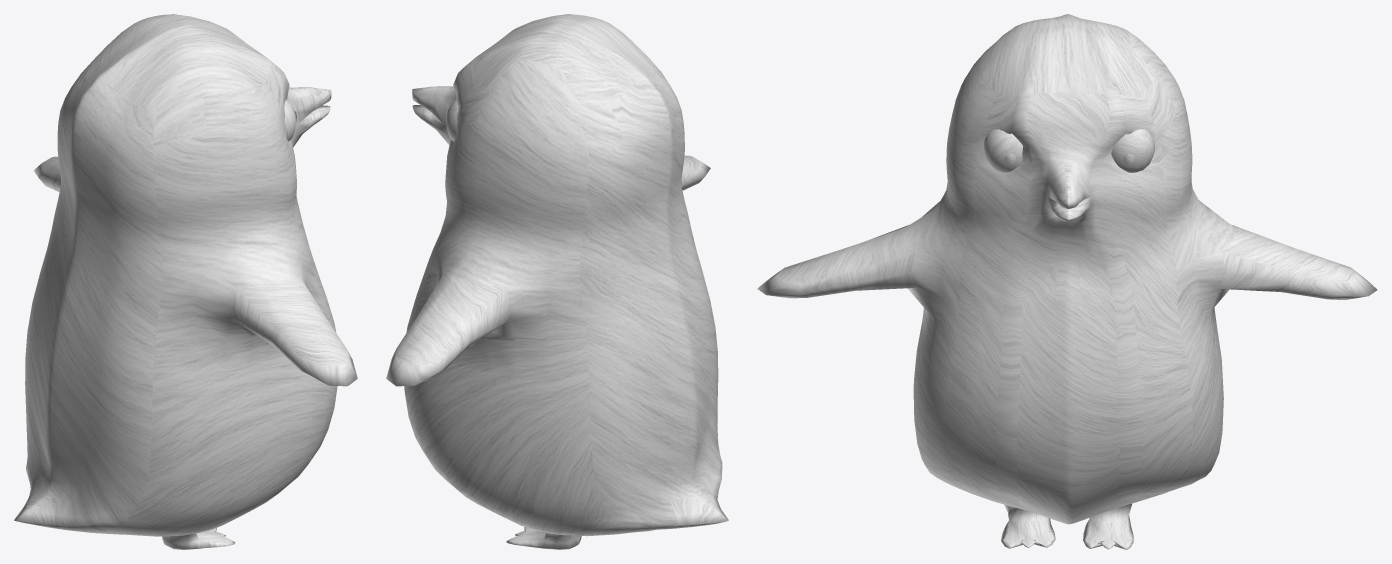
File: Pingu.fbx
3 renders of one model, left to right at view 1: azimuth 30°, elevation 25°; view 2: azimuth 150°, elevation 25°; view 3: azimuth 270°, elevation 25°, orthographic.
Parts seen in each view (by area): view 1: Círculo; view 2: Círculo; view 3: Círculo.
Boxes of the visible parts, <box> form: Círculo: <box>14,14,357,549</box>; Círculo: <box>386,14,728,549</box>; Círculo: <box>757,14,1377,549</box>.
Size of the model in its own units: 224 by 339 by 373.
1 material, 1 textured.
